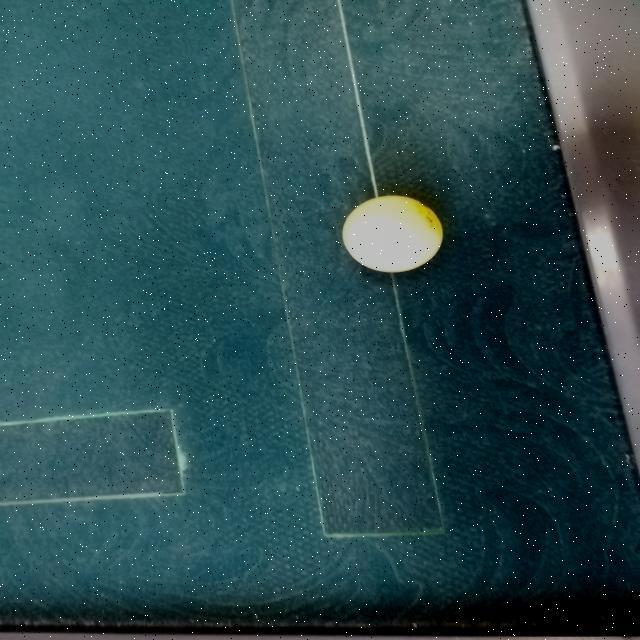ping-pong-ball: (342, 196, 444, 274)
